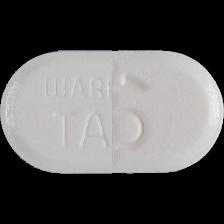51672-4035: (0, 0, 224, 224)
